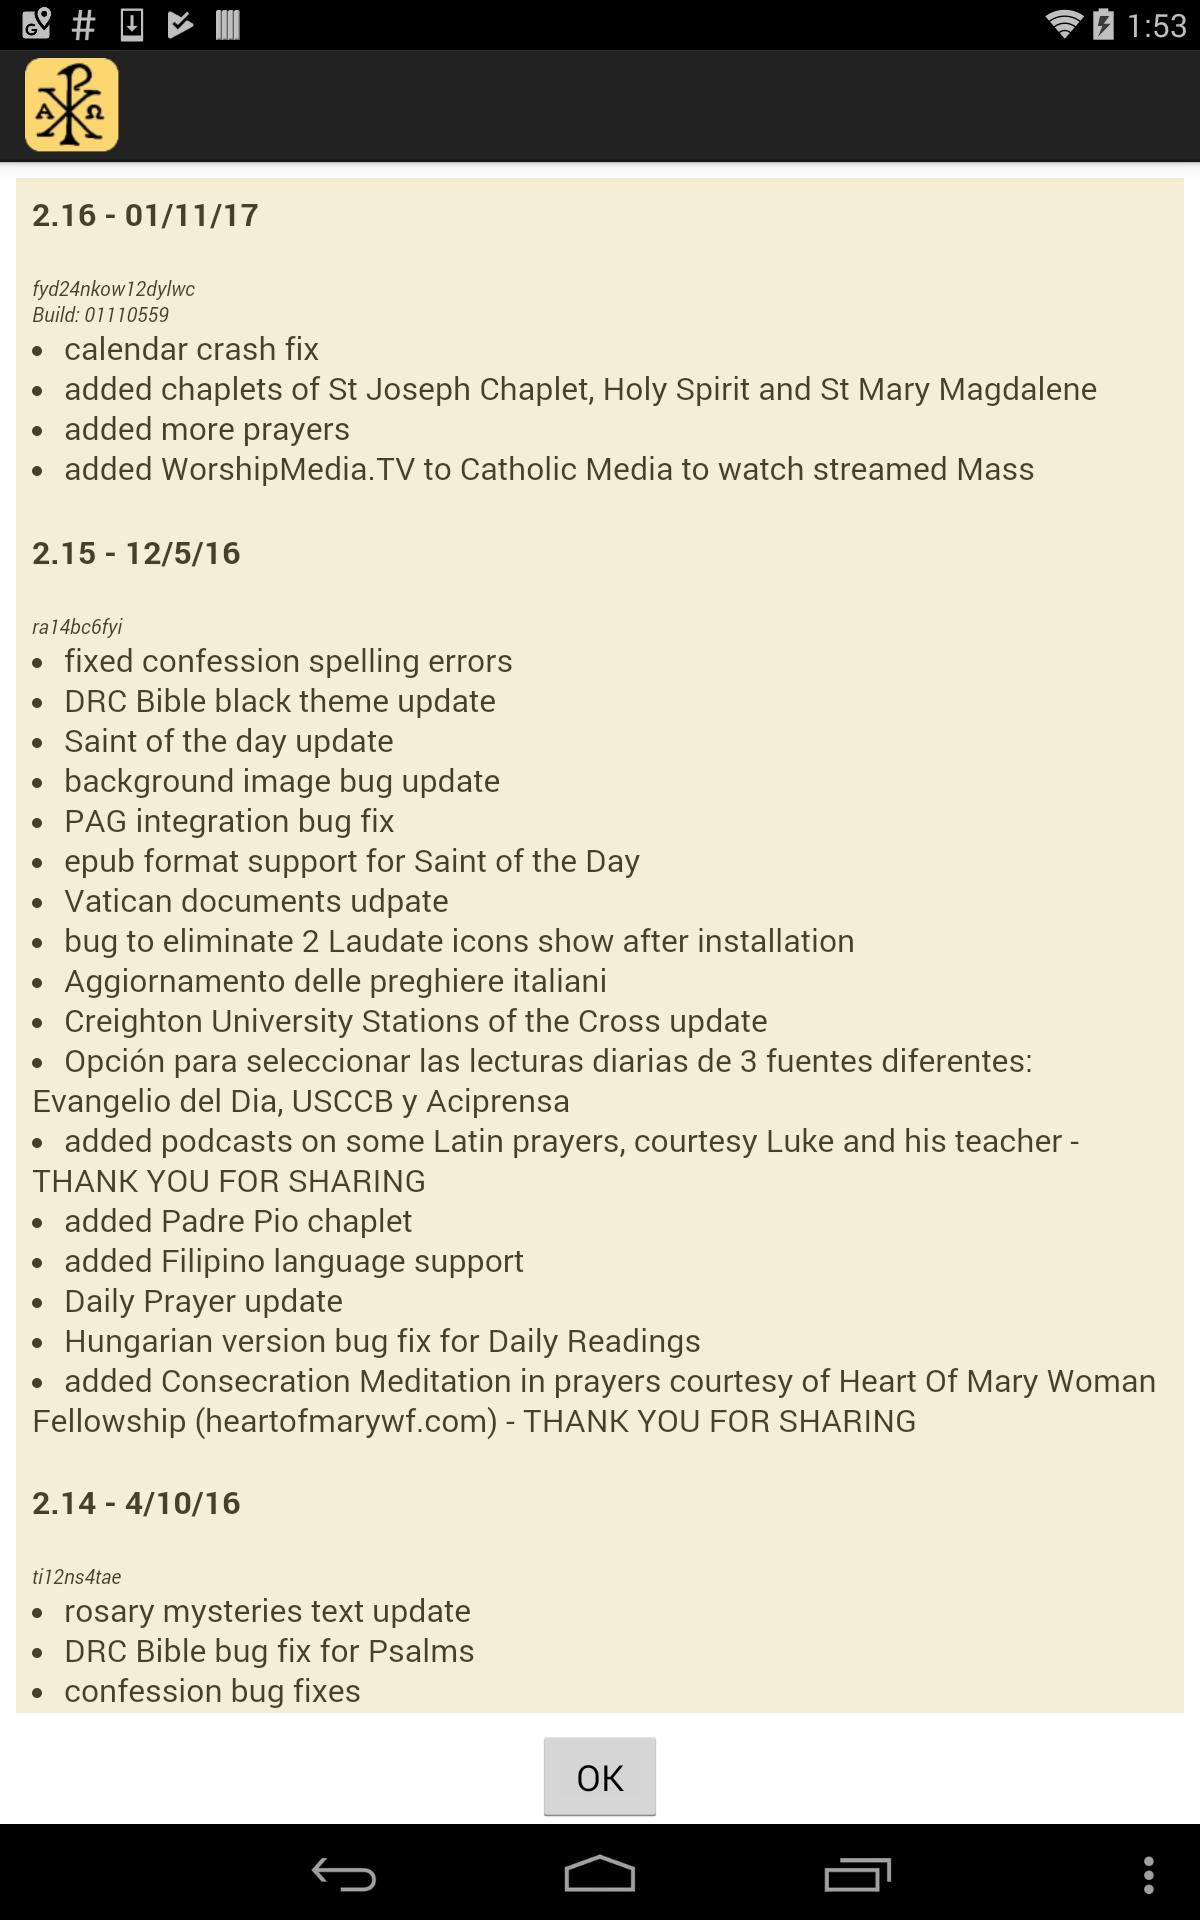android.view.View: (0, 0, 1200, 1825), (0, 50, 1200, 162)
android.webkit.WebView: (17, 178, 1183, 1706)
android.widget.Button: (536, 1729, 664, 1825)
android.widget.FrameLayout: (0, 0, 1200, 1825), (0, 162, 1200, 1825), (0, 50, 1200, 162), (17, 50, 129, 162)
android.widget.ImageView: (25, 58, 122, 153)
android.widget.LinearLayout: (0, 162, 1200, 1825), (17, 50, 129, 162)
